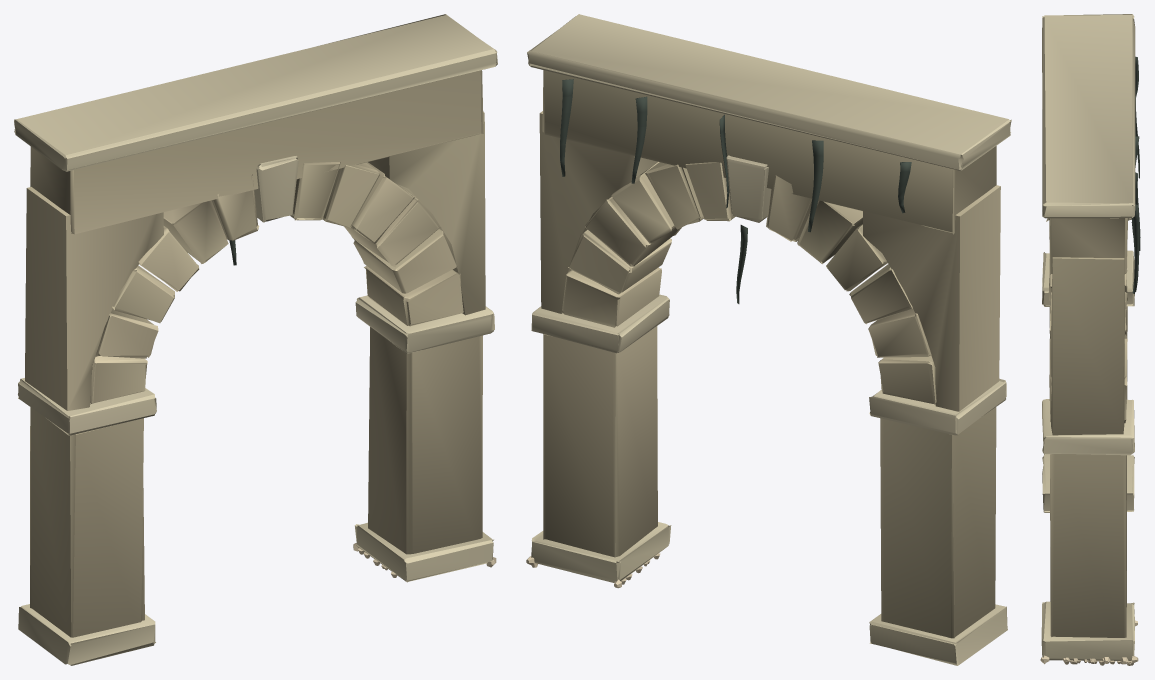
File: town_arch.glb
The picture shows the model from 3 angles, left to right: view 1: azimuth 30°, elevation 25°; view 2: azimuth 150°, elevation 25°; view 3: azimuth 270°, elevation 25°; orthographic projection. The views are drawn at different scales.
Parts seen in each view (by area): view 1: town_arch; view 2: town_arch; view 3: town_arch.
Boxes of the visible parts, x1,y1,x2,y2 form: town_arch: [14, 14, 497, 665]; town_arch: [526, 14, 1011, 665]; town_arch: [1040, 14, 1140, 665].
Size of the model in its own units: 5.93 by 6.74 by 1.32.
